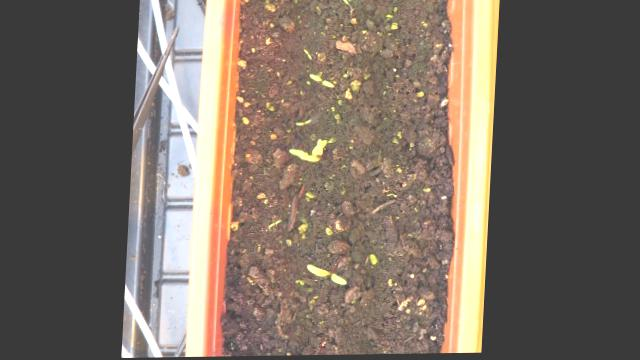crop: (307, 263, 351, 289)
